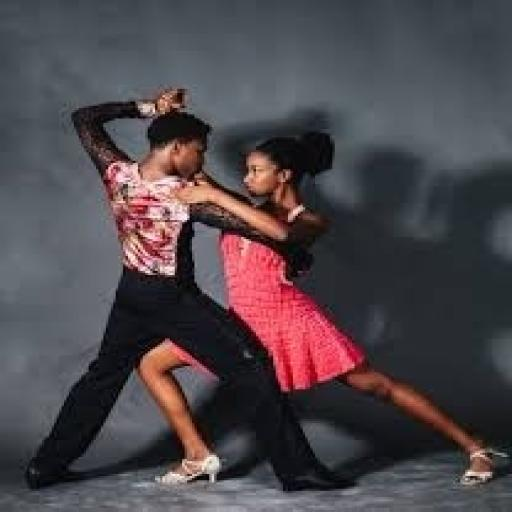dancing: (20, 83, 359, 495)
